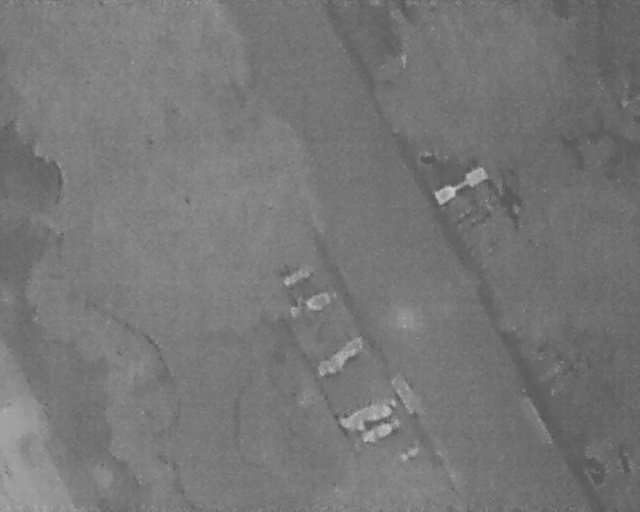Bicycle: (332, 394, 397, 439), (429, 162, 491, 207), (313, 333, 368, 382), (286, 284, 344, 322), (351, 414, 403, 447), (276, 261, 317, 291)
